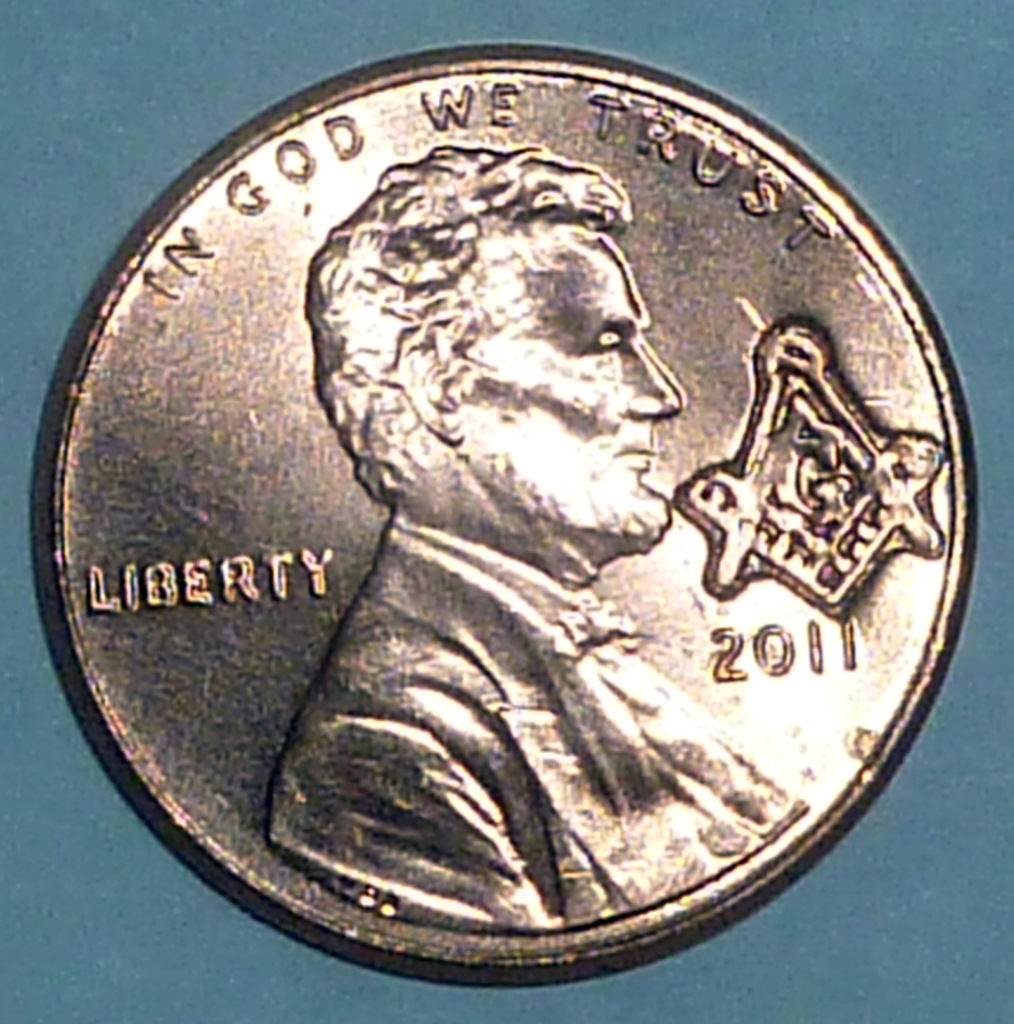Coin: (29, 40, 980, 989)
